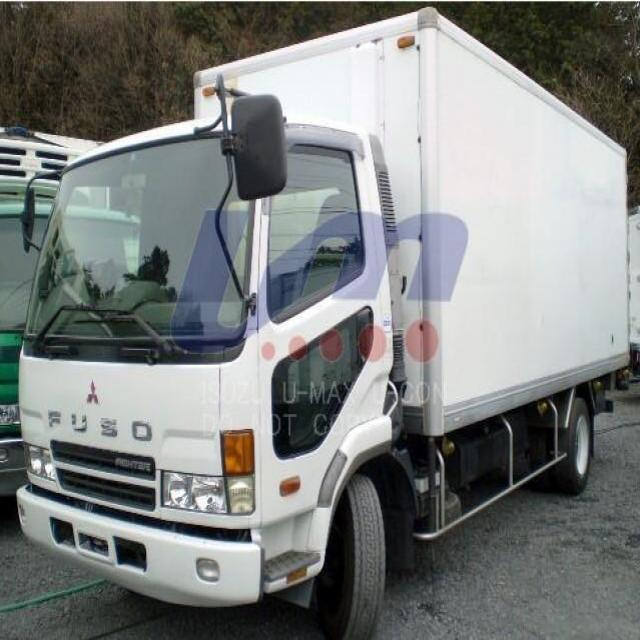truck: (16, 12, 629, 636)
